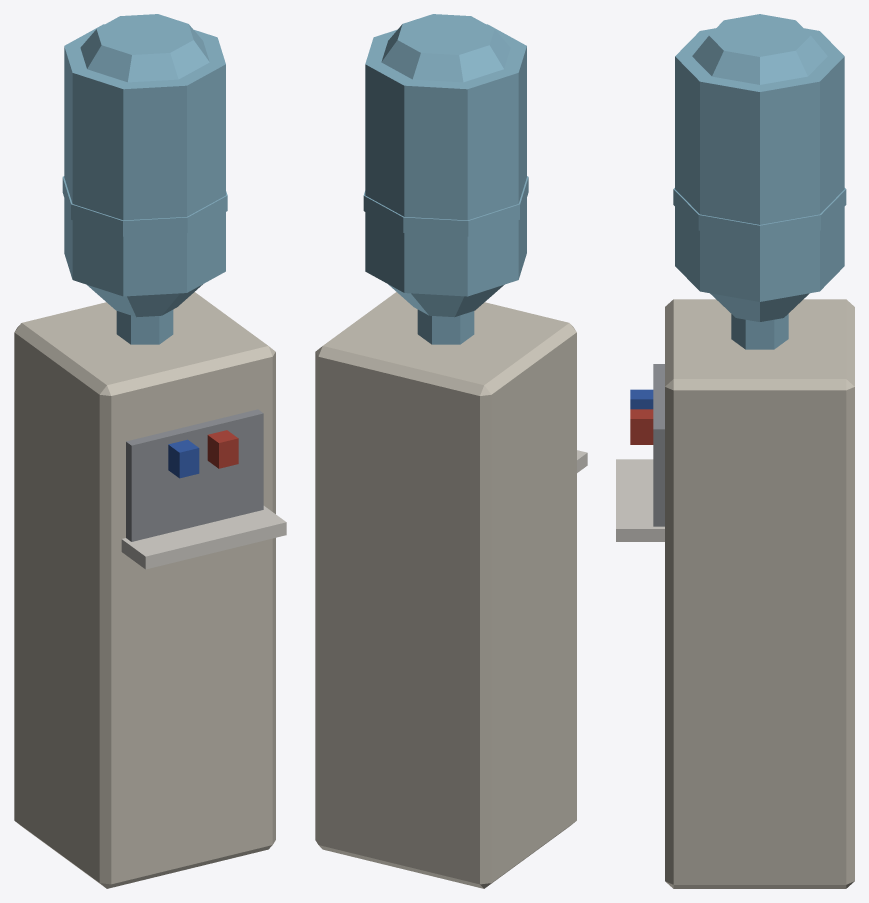
The model's file is water-cooler-08.glb.
3 views of the same model, side by side, from view 1: azimuth 30°, elevation 25°; view 2: azimuth 150°, elevation 25°; view 3: azimuth 270°, elevation 25° (orthographic).
Parts seen in each view (by area): view 1: water_cooler_08; view 2: water_cooler_08; view 3: water_cooler_08.
Boxes of the visible parts, x1,y1,x2,y2 form: water_cooler_08: (14,14,286,888); water_cooler_08: (315,14,587,888); water_cooler_08: (616,14,854,888).
Size of the model in its own units: 0.3587 by 1.56 by 0.4158.
